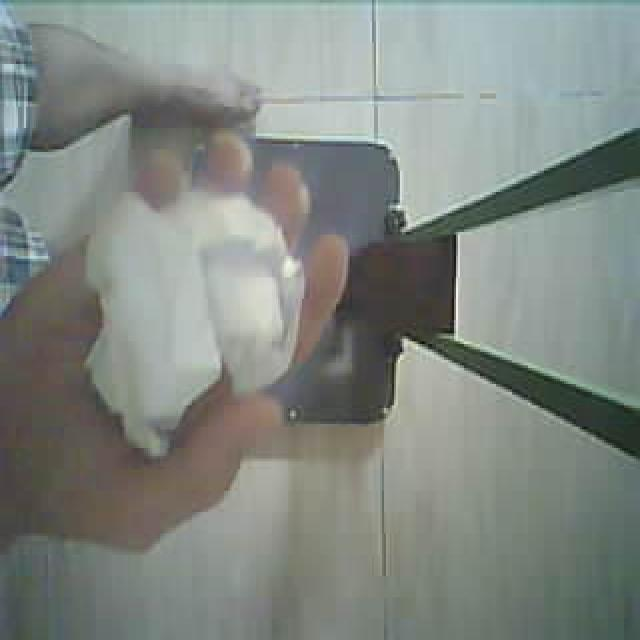Paper: (93, 202, 313, 446)
